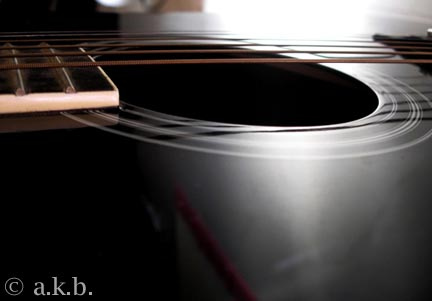guitar: (1, 1, 432, 301)
